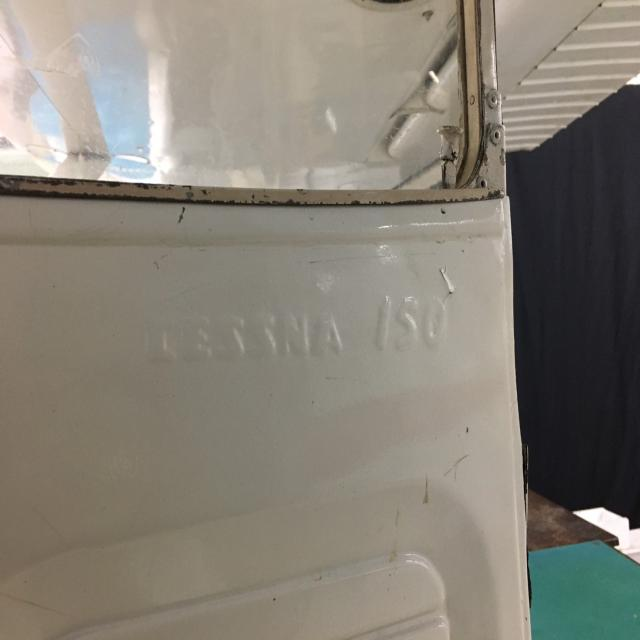Rupture: (4, 175, 514, 208), (424, 235, 478, 318), (150, 190, 203, 242)
